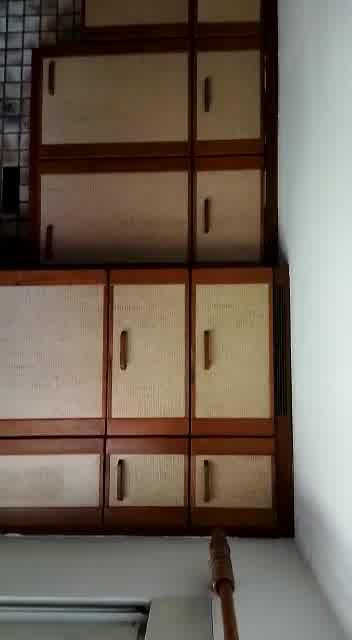cabinet_door: (1, 274, 109, 438), (30, 156, 192, 265), (33, 48, 195, 151), (197, 271, 288, 431), (109, 274, 193, 437), (0, 433, 105, 533), (189, 437, 288, 532), (194, 43, 273, 154), (195, 161, 276, 259), (105, 438, 188, 529)
handle: (198, 70, 218, 119), (201, 192, 220, 240), (43, 218, 62, 261), (198, 456, 213, 509), (119, 323, 133, 378), (115, 457, 132, 502), (44, 55, 59, 101), (201, 326, 214, 375)
